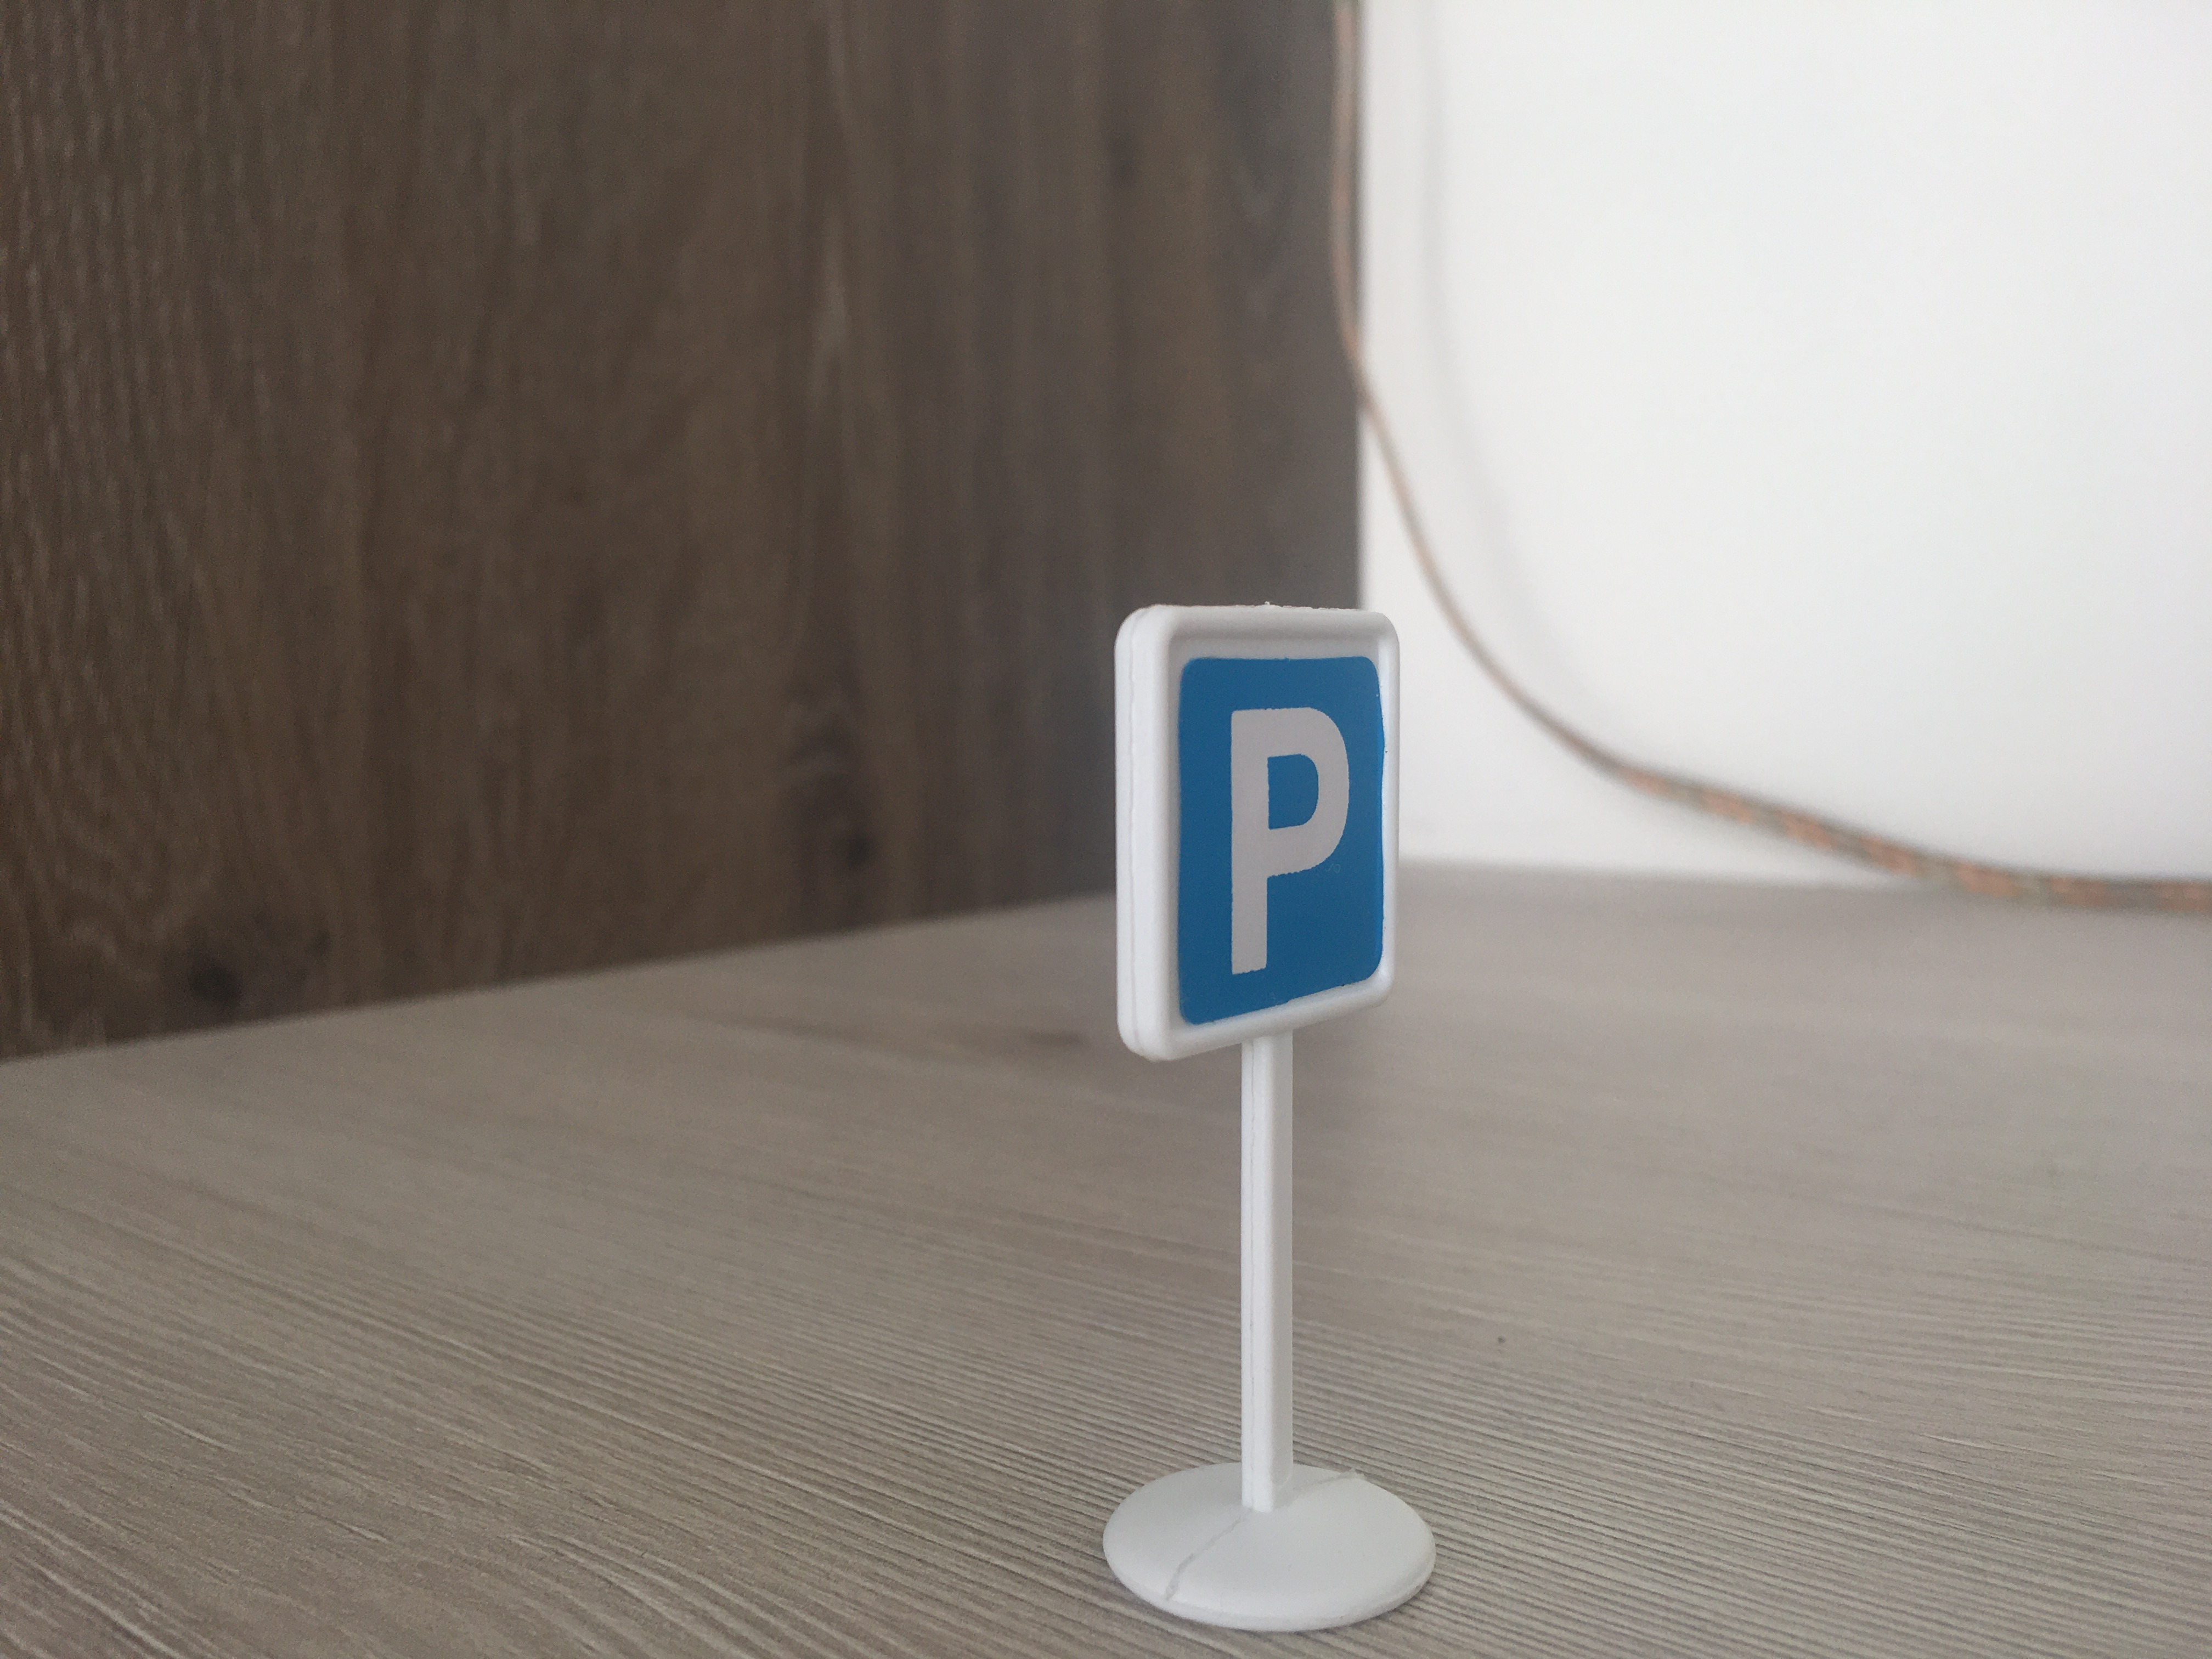parking: (1113, 603, 1402, 1066)
